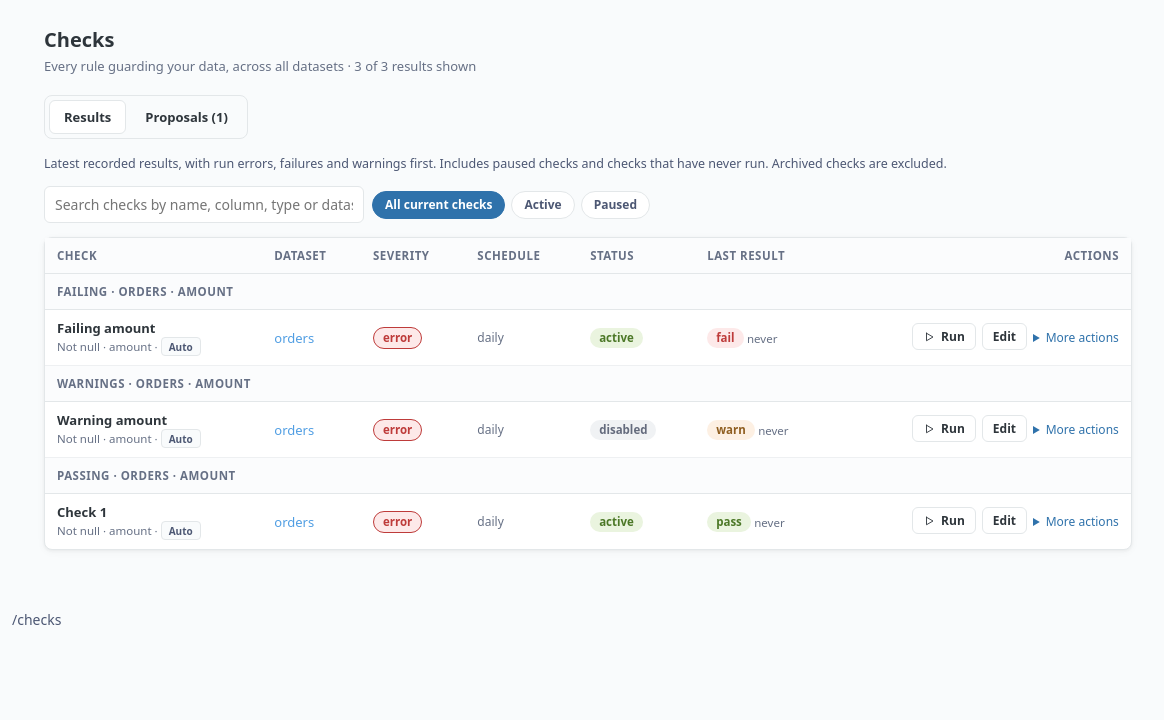
Test: Check results and proposals › defaults to results, counts isolated proposals, and sorts failures before warnings and passes
The image size is (1164, 720).
Expected: the link "Failing amount" is shown, x1=57 y1=319 x2=155 y2=337
Expected: the column heading "Failing · orders · amount" is shown, x1=45 y1=274 x2=1131 y2=310
Click the button "Proposals (1)".
click(187, 117)  # box x1=130 y1=100 x2=243 y2=134
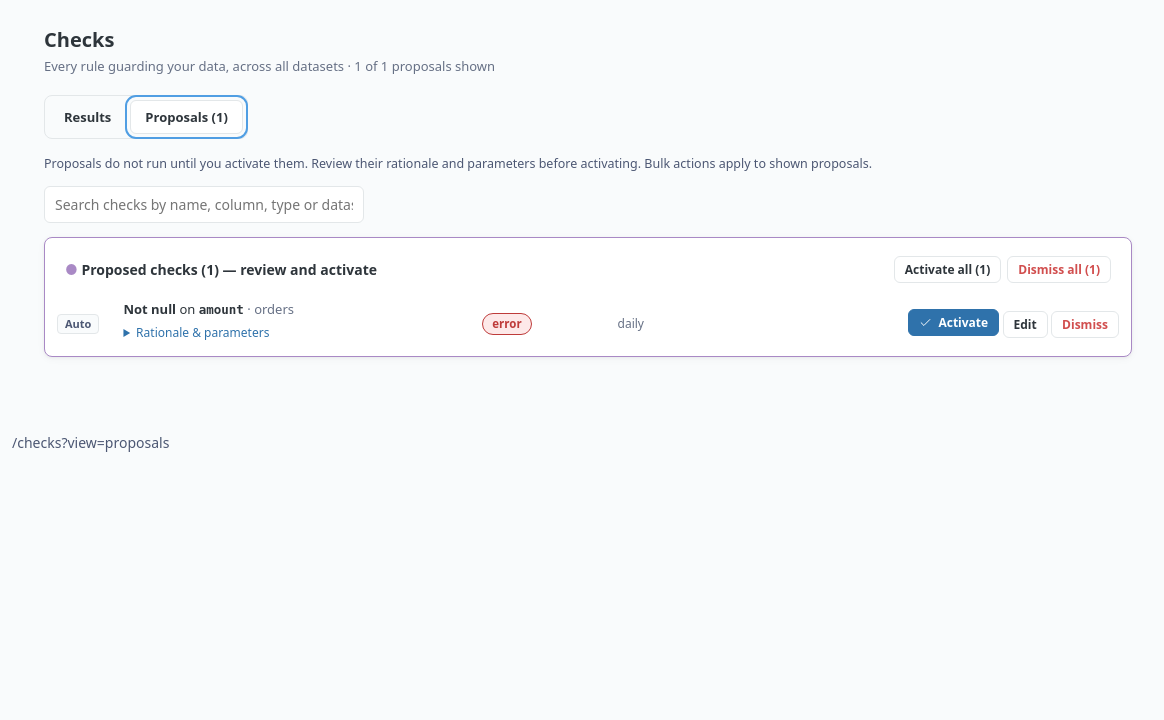
Result: the link "Failing amount" is gone
Result: the button "Activate all (1)" is shown at x1=894 y1=256 x2=1001 y2=283
